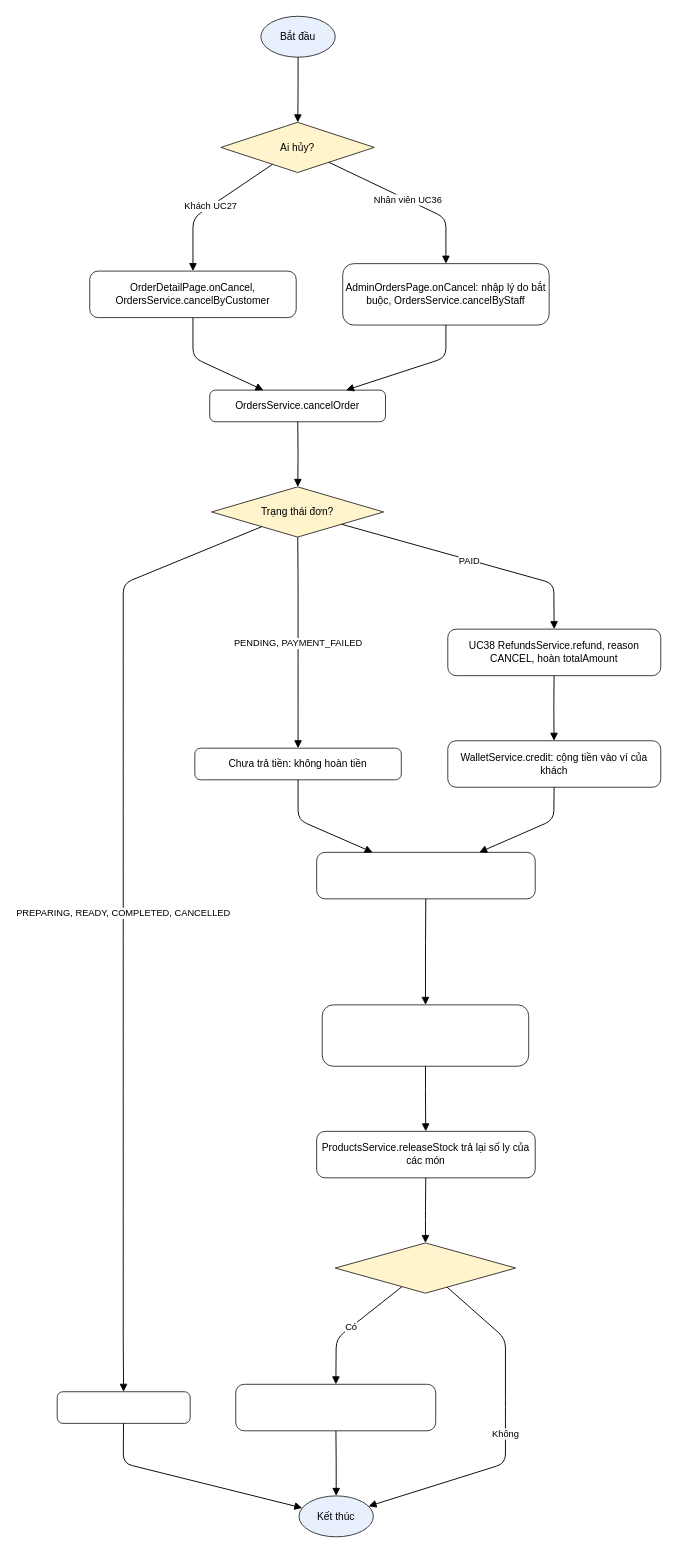
Some shapes in this 677 by 1553 pixel diagram are drawn without their labels. Each missing label, with the centre of its shape:
409 Không hủy được: pixel 123 1407
LoyaltyService.revoke thu hồi điểm và số ly: pixel 335 1407
Order CANCELLED, ghi cancelReason, người hủy và lý do: pixel 425 875
Đơn có dùng mã khuyến mãi: PromotionsService.releaseUsage trả lại lượt dùng mã: pixel 425 1035
Đơn đã trả tiền?: pixel 425 1267
